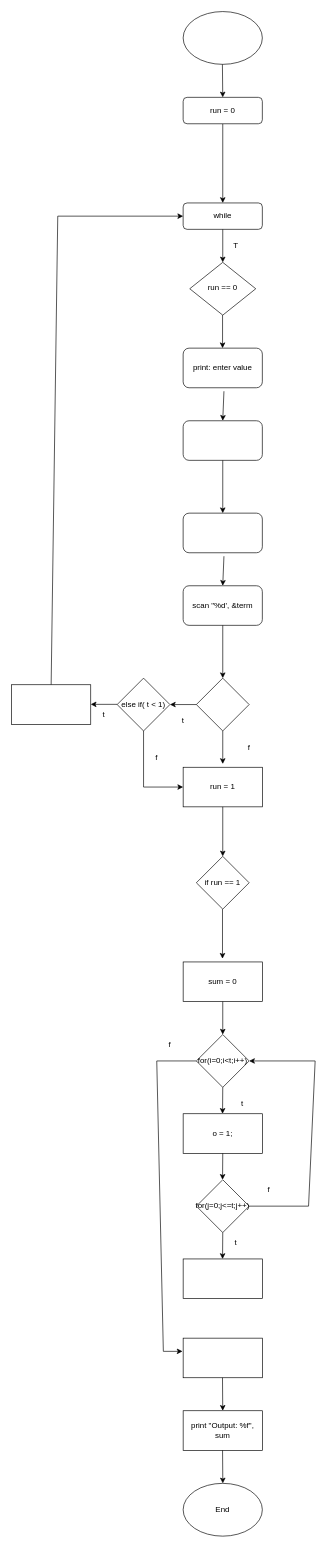
This 332x1548 diagram has some shape labels left out. Each missing label, with the box of its shape:
eq = (x/(x-1)) o *= eq: (182, 1258, 262, 1299)
if(x==1): (196, 677, 249, 731)
o *= 0.5; sum += 0: (182, 1337, 262, 1378)
print error: (11, 684, 91, 724)
print: enter term: (182, 512, 262, 553)
scan "%f', &x: (182, 420, 262, 460)
Start: (182, 11, 262, 64)
